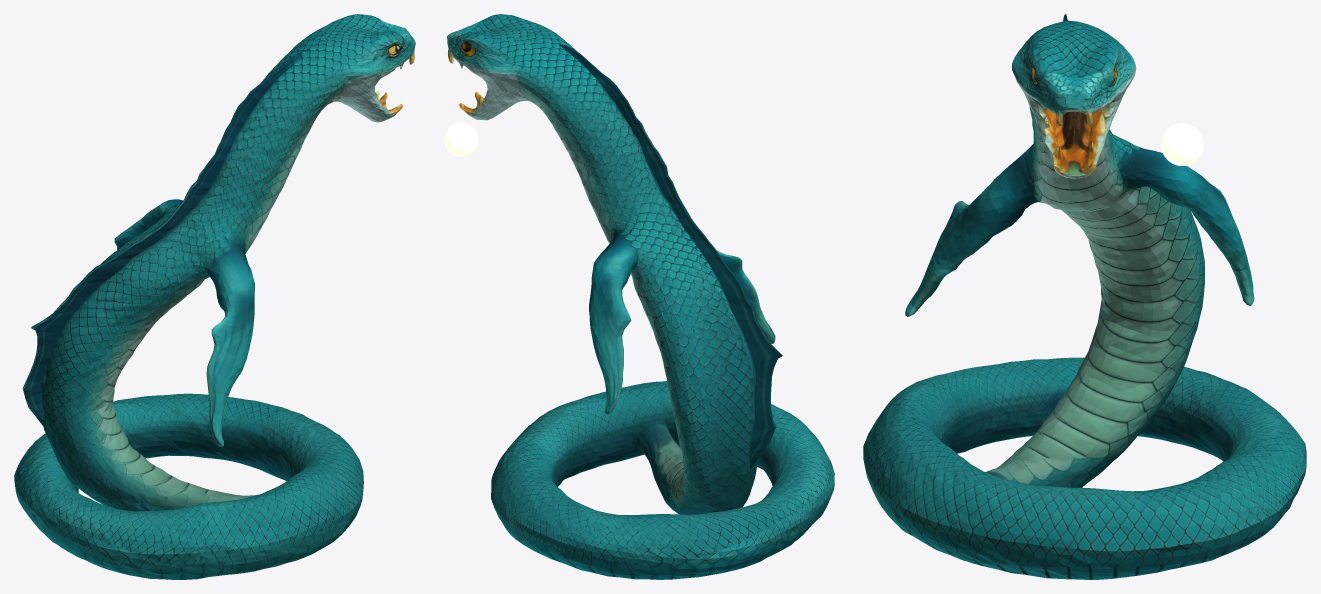
File: serpent.glb
3 views of the same model, side by side, from view 1: azimuth 30°, elevation 25°; view 2: azimuth 150°, elevation 25°; view 3: azimuth 270°, elevation 25° (orthographic). The views are drawn at different scales.
Parts seen in each view (by area): view 1: body; view 2: body, eye; view 3: body, eye.
Part boxes in pixels (box(x1,y1,x2,y2)): body: box(14, 14, 415, 579); body: box(447, 14, 834, 579); eye: box(444, 122, 478, 156); body: box(863, 14, 1306, 579); eye: box(1161, 123, 1203, 165).
Bounding box in the file's own units: 1.61 × 1.91 × 1.37.
2 materials, 1 textured.
